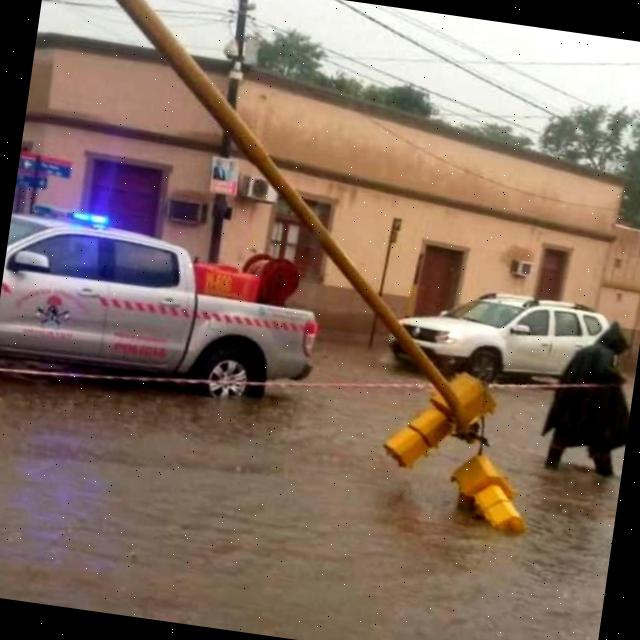Broken Pole: (114, 0, 524, 532)
